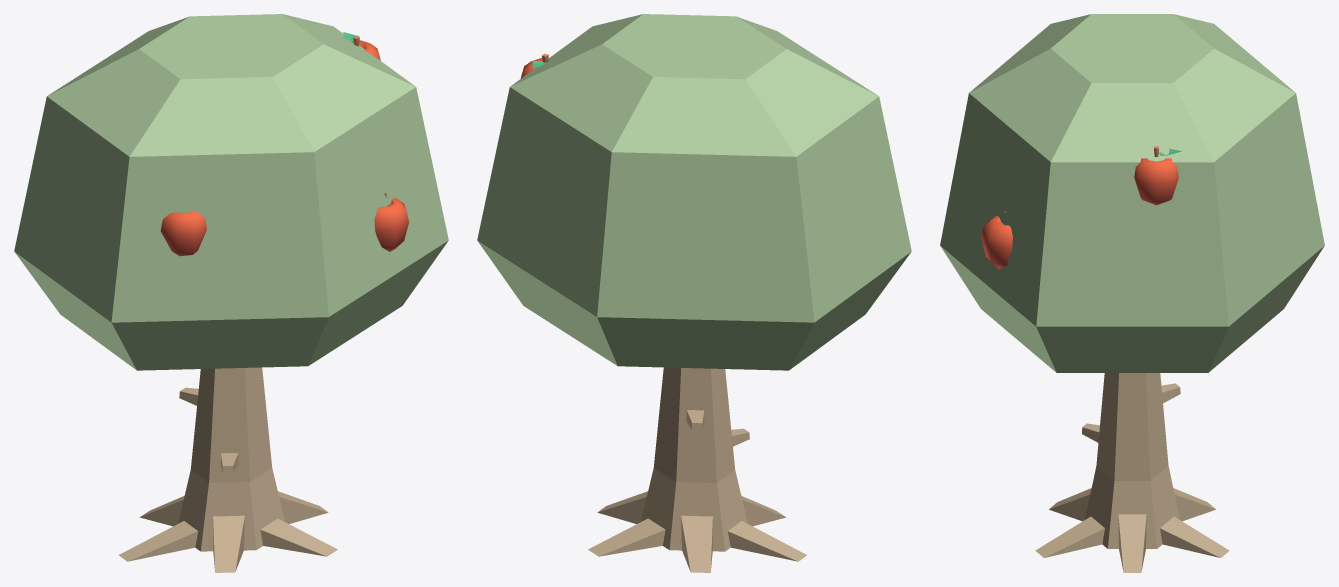
Rendered from crafted-apple-tree-ready.glb.
3 views of the same model, side by side, from view 1: azimuth 30°, elevation 25°; view 2: azimuth 150°, elevation 25°; view 3: azimuth 270°, elevation 25° (orthographic).
Visible parts, largest first — view 1: tree-0, tree-1, fruit-0, fruit-1; view 2: tree-0, tree-1; view 3: tree-0, tree-1, fruit-2, fruit-1.
Boxes of the visible parts, x1,y1,x2,y2 form: tree-0: (14,14,448,370); tree-1: (119,367,337,572); fruit-0: (160,212,206,256); fruit-1: (374,192,408,251); tree-0: (477,14,911,370); tree-1: (588,367,806,572); tree-0: (940,14,1324,372); tree-1: (1035,373,1229,572); fruit-2: (1134,146,1181,205); fruit-1: (981,211,1012,269).
Size of the model in its own units: 1.6 by 2.2 by 1.6.
5 materials, 3 textured.
